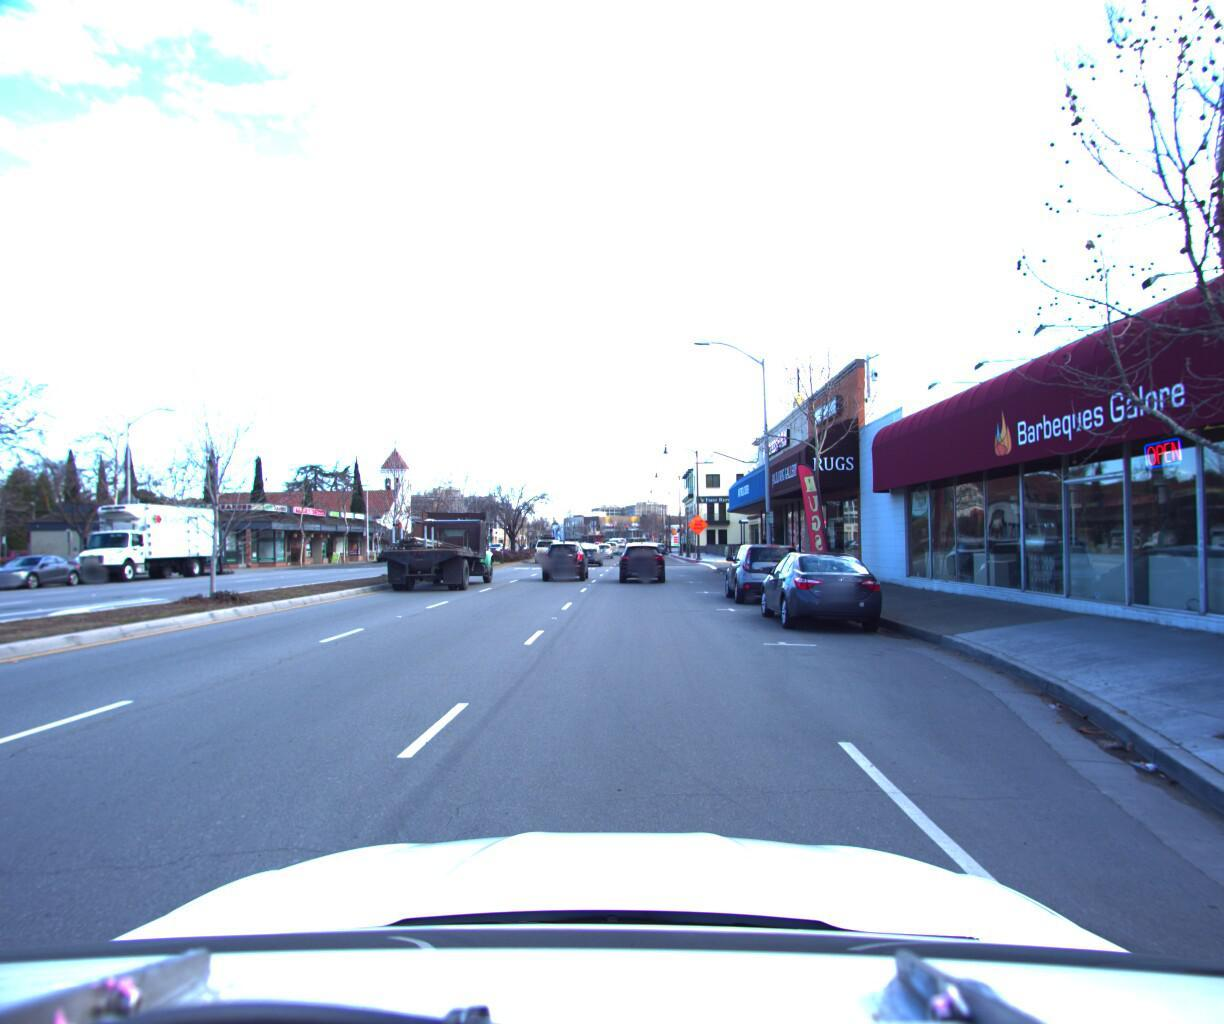car: (750, 541, 896, 635), (721, 534, 805, 602), (0, 549, 95, 590), (618, 536, 668, 581), (539, 535, 590, 579), (531, 532, 561, 562), (573, 538, 602, 562), (597, 539, 616, 555), (0, 546, 5, 582)
truck: (51, 498, 231, 583), (376, 494, 505, 591)
